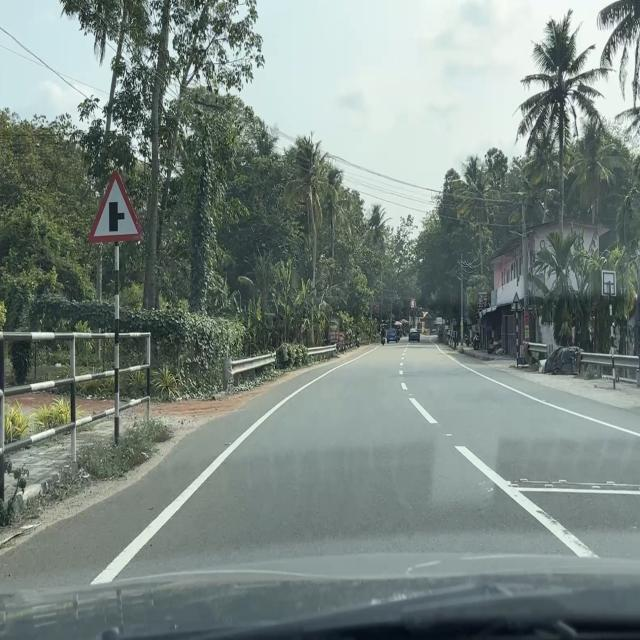SIDE_ROAD_RIGHT: (88, 170, 143, 243)
